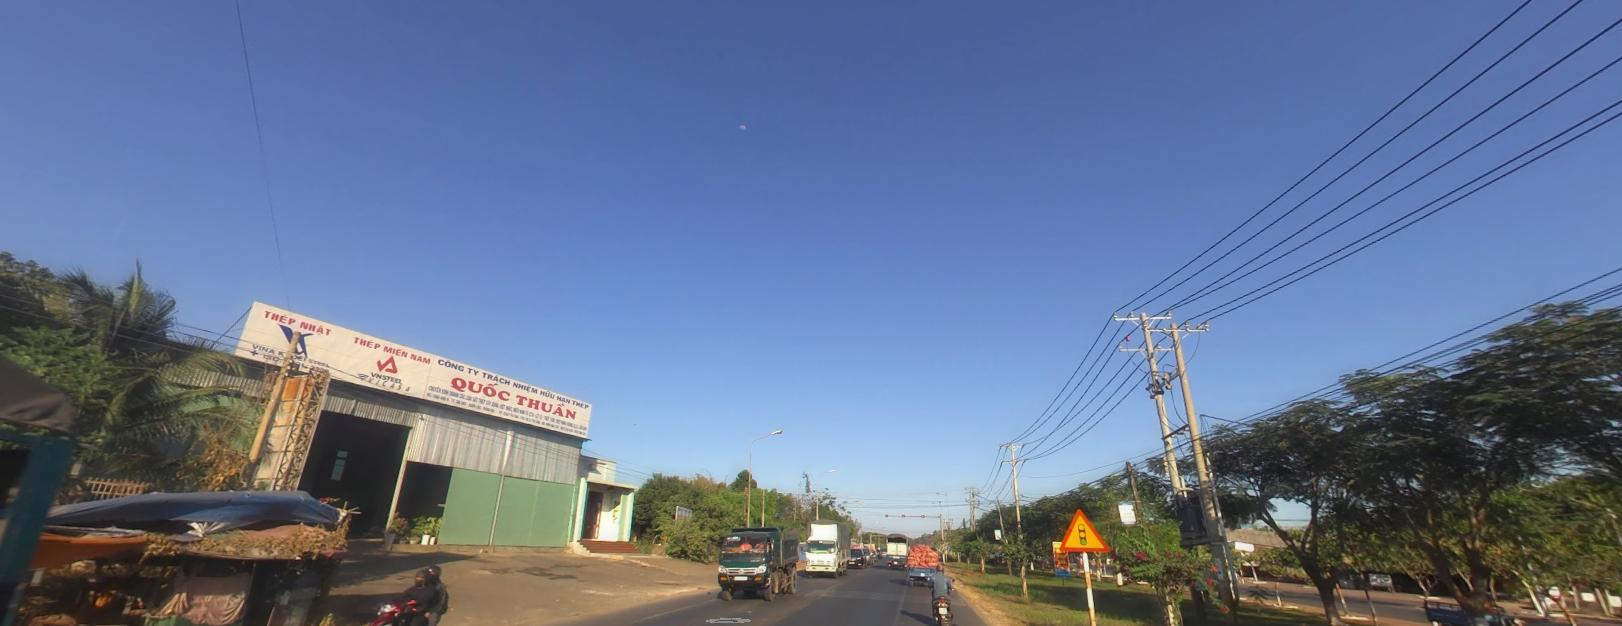Nguy hiem: (1056, 506, 1110, 556)
